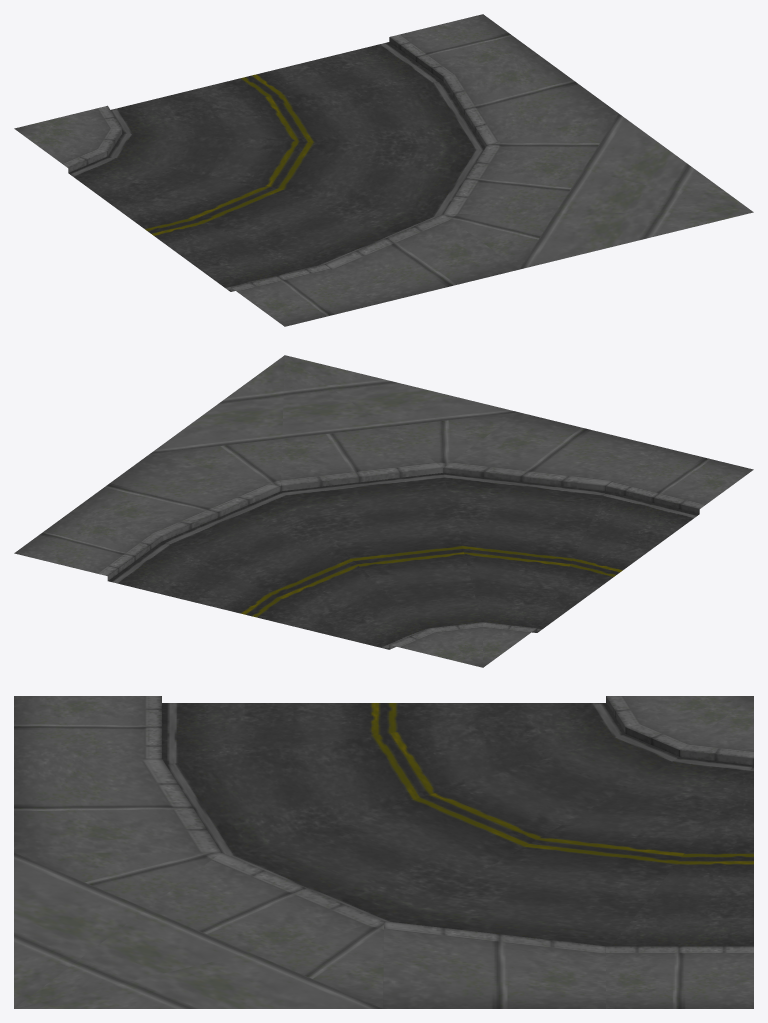
Rendered from road4.fbx.
The picture shows the model from 3 angles, top to bottom: view 1: azimuth 30°, elevation 25°; view 2: azimuth 150°, elevation 25°; view 3: azimuth 270°, elevation 25°; orthographic projection. The views are drawn at different scales.
Visible parts, largest first — view 1: road4; view 2: road4; view 3: road4.
Part boxes in pixels (x1,y1,x2,y2): road4: (14, 14, 753, 326); road4: (14, 355, 753, 667); road4: (14, 696, 753, 1008).
Bounding box in the file's own units: 2000 × 2000 × 20.
Materials: 1 (1 with a texture image).
